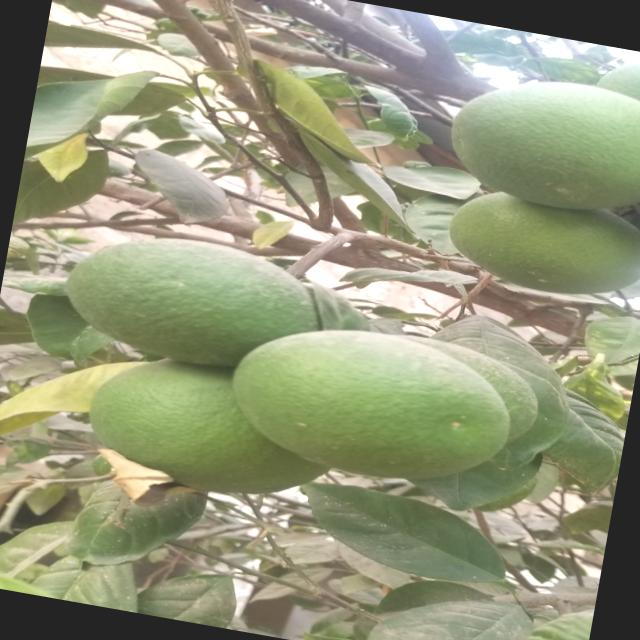Unripe: (230, 308, 526, 502), (48, 217, 327, 384), (71, 350, 311, 509), (426, 57, 640, 228), (446, 182, 640, 313)
